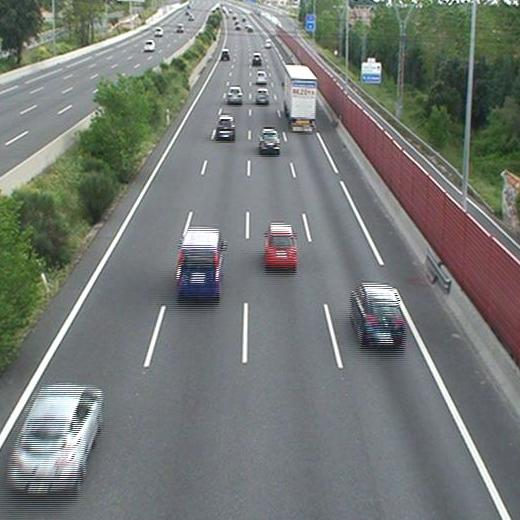car: (12, 386, 102, 490), (352, 285, 404, 343), (265, 224, 297, 266), (260, 129, 280, 151), (216, 116, 235, 138), (227, 86, 242, 102), (256, 90, 270, 103), (255, 71, 266, 82), (251, 54, 261, 64), (220, 50, 229, 60)
truck: (284, 66, 317, 131)
van: (176, 229, 222, 295)
